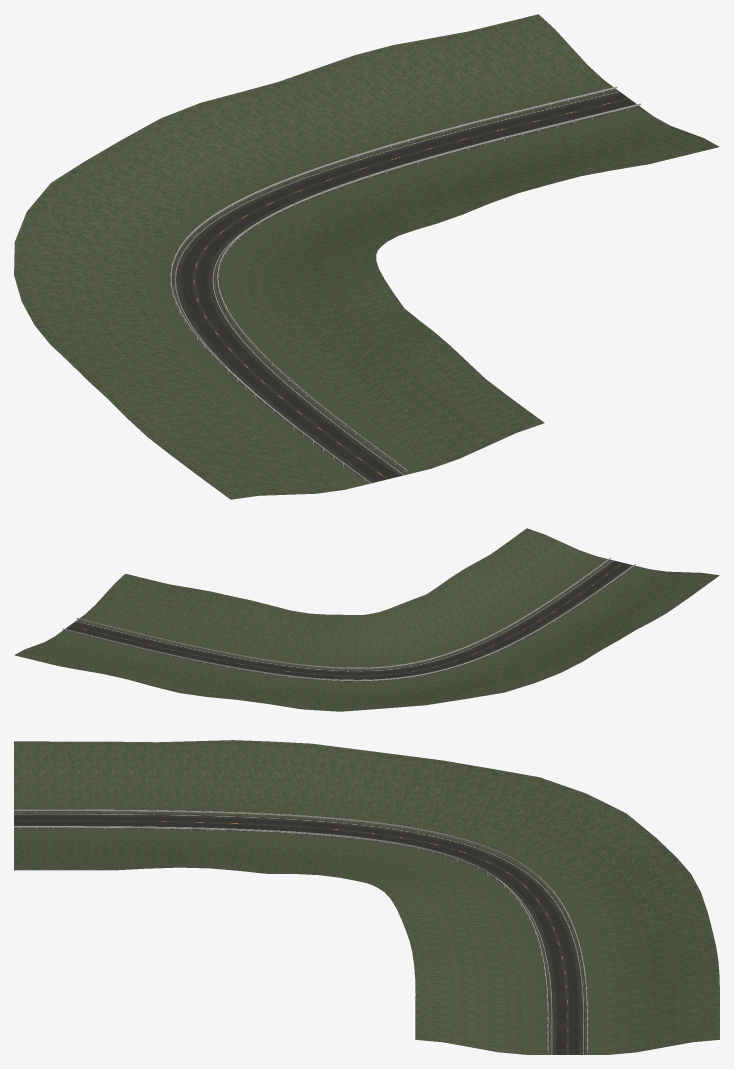
3 views of the same model, one above another, from view 1: azimuth 30°, elevation 25°; view 2: azimuth 150°, elevation 25°; view 3: azimuth 270°, elevation 25° (orthographic). The views are drawn at different scales.
Visible parts, largest first — view 1: Grass, HighWay, GuardRail; view 2: Grass, HighWay, GuardRail; view 3: Grass, HighWay, GuardRail.
Part boxes in pixels (x1,y1,x2,y2): Grass: (14, 14, 719, 499); HighWay: (172, 90, 639, 483); GuardRail: (170, 86, 640, 481); Grass: (14, 528, 719, 711); HighWay: (63, 560, 634, 681); GuardRail: (62, 557, 635, 682); Grass: (14, 740, 719, 1054); HighWay: (14, 813, 586, 1054); GuardRail: (14, 809, 587, 1052).
Size of what is drawn, in the model's own units: 255 by 7.65 by 255.
